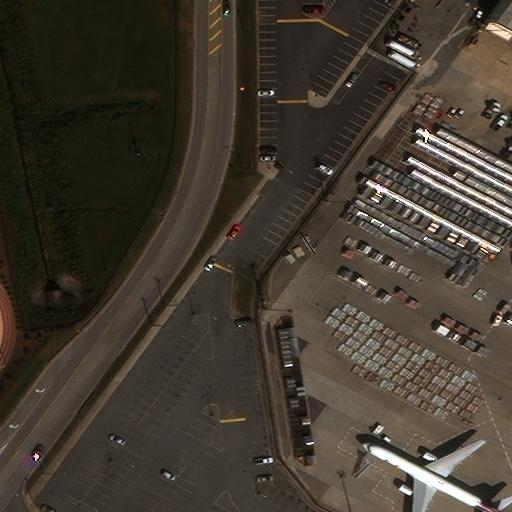Large Civil Transport: (361, 439, 501, 512)
